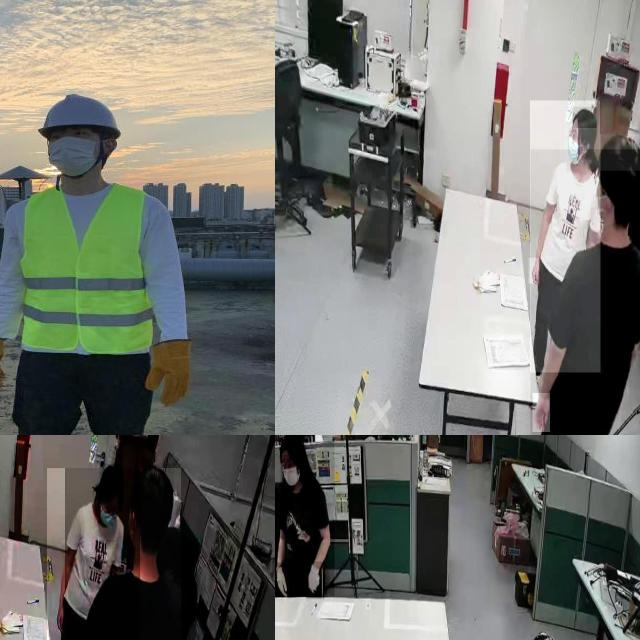face_mask: (100, 493, 118, 540), (280, 455, 302, 492), (564, 124, 580, 168)
hand_glove: (306, 562, 324, 600), (275, 562, 291, 597)
hand_noglove: (532, 393, 550, 433), (53, 602, 65, 634), (528, 258, 540, 284)
head_helmet: (36, 94, 122, 138)
head_nohelmet: (599, 134, 640, 171), (134, 464, 175, 501), (100, 464, 124, 493), (573, 107, 597, 129), (279, 435, 305, 451)
person: (0, 84, 215, 435), (530, 149, 640, 435), (46, 468, 181, 640), (530, 100, 600, 372), (65, 468, 140, 640), (275, 435, 334, 597)
vest: (21, 184, 152, 353)
